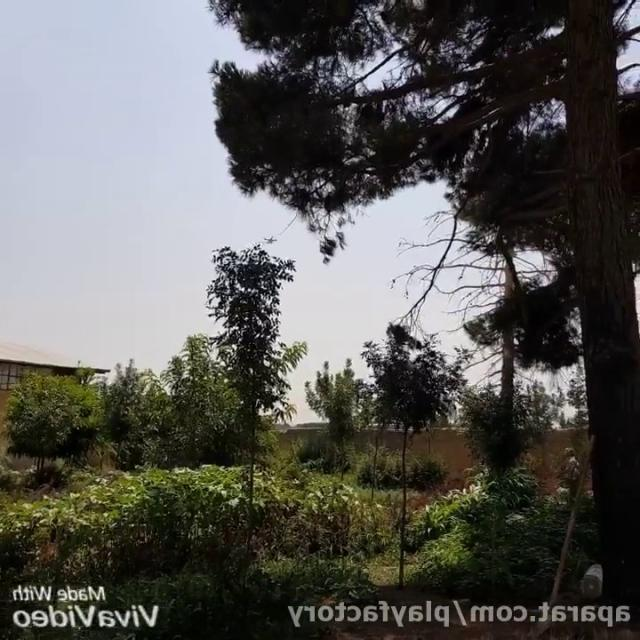drone: (264, 232, 284, 246)
